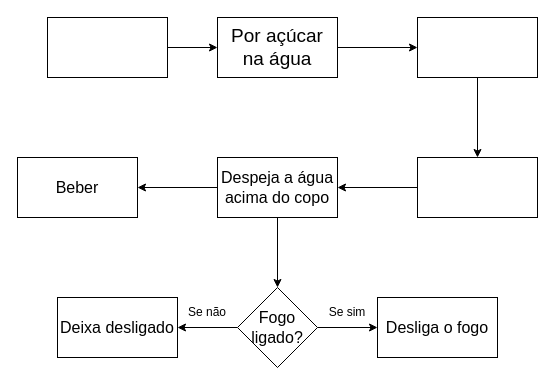
This 555x385 diagram has some shape labels left out. Here are the shapes that lost their labels. From the top down, the centre of each, then its label:
[107,47]: Esquentar água
[477,47]: Por o filtro na garrafa
[477,187]: Despejar pó de café no filtro
